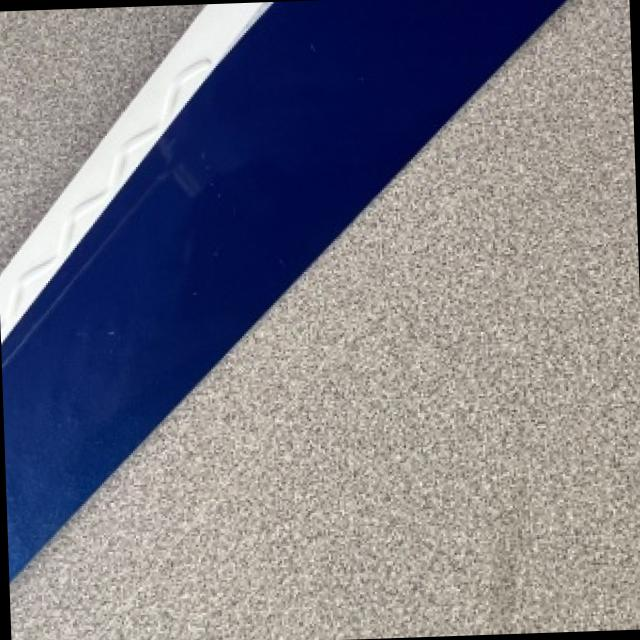healthy: (11, 0, 640, 640)
